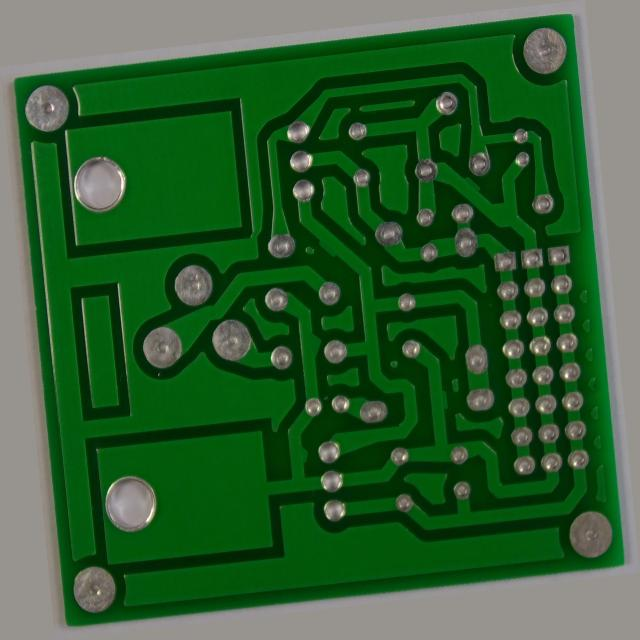spur: (322, 227, 353, 257), (297, 328, 321, 365), (480, 176, 511, 204), (433, 409, 453, 441), (278, 452, 298, 482)
